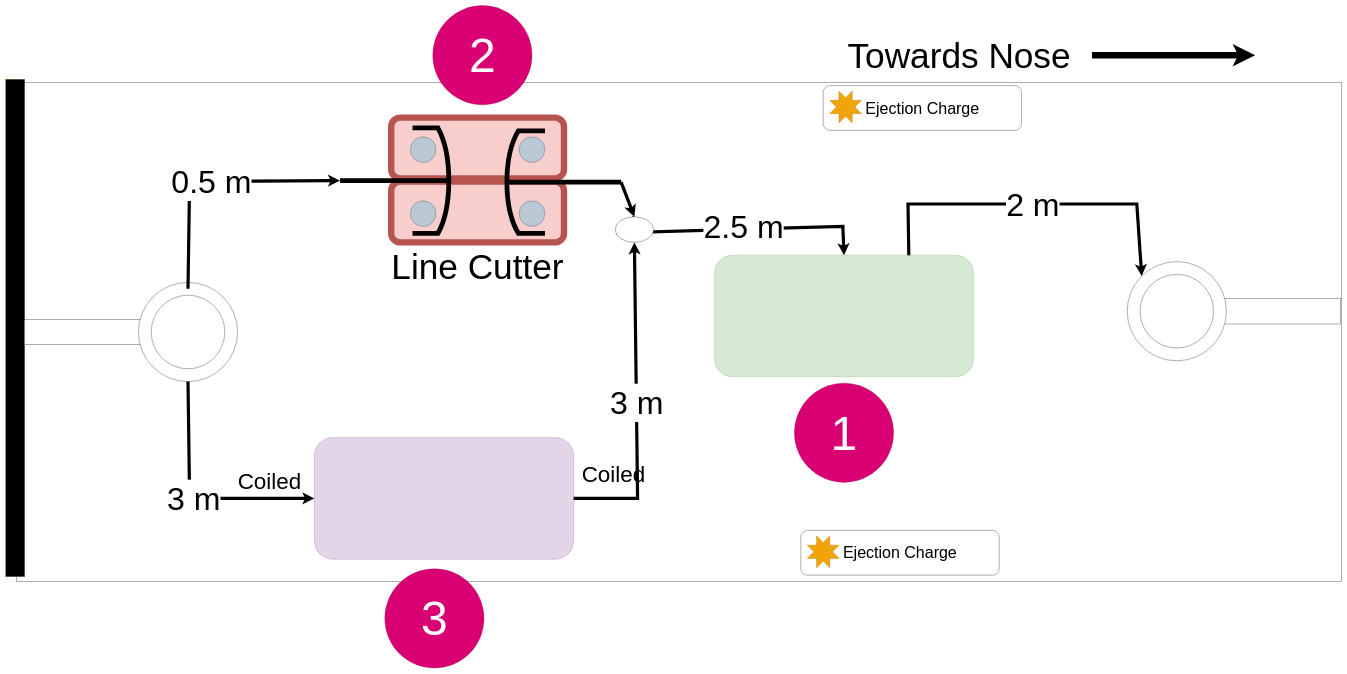
Some shapes in this 1347 by 674 pixel diagram are drawn without their labels. The shapes that lost their labels are listed below. From the top down, each one's centre as x and y in pixels, then its label:
the point at 844,316: Drogue Burrito
the point at 444,498: Main Bag
